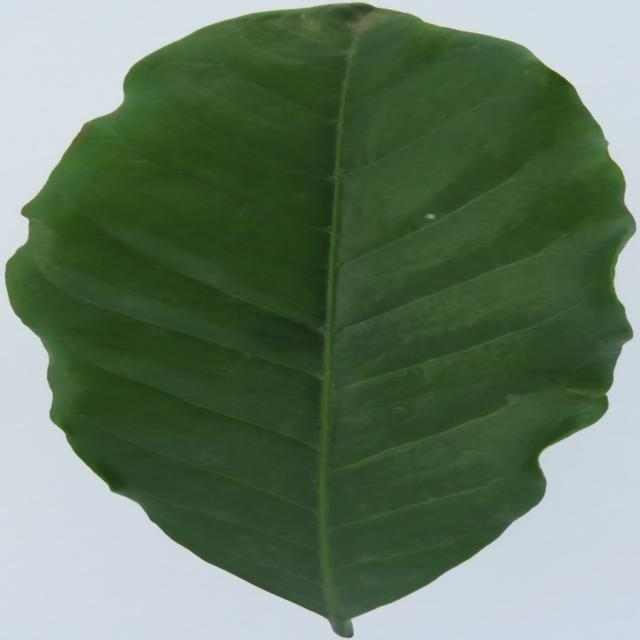DeficienciaNutricional-Boro: (7, 4, 632, 638)
